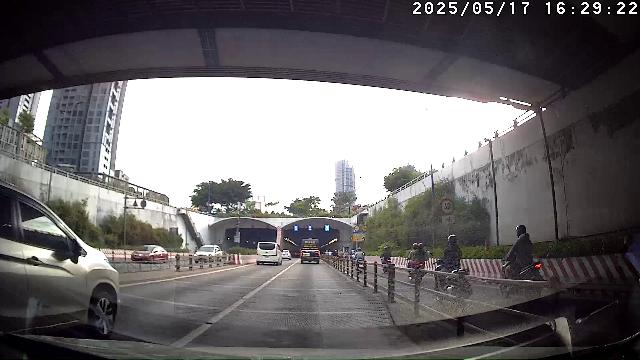127-toc-do-toi-da-40: (439, 198, 455, 215)
